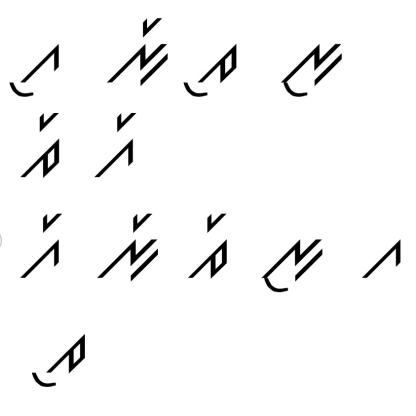ga: (355, 232, 404, 288)
gar: (16, 205, 68, 284), (92, 110, 144, 182)
gaw: (3, 37, 62, 103)
ngar: (92, 207, 162, 291), (107, 17, 172, 91)
ngaw: (258, 233, 325, 299), (280, 42, 350, 102)
tar: (19, 109, 72, 185), (186, 206, 236, 283)
taw: (21, 327, 92, 396), (184, 41, 240, 106)
